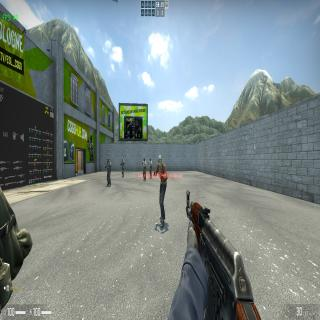CT-Body: (105, 157, 112, 187), (120, 158, 124, 178)
CT-Head: (107, 157, 109, 162), (122, 158, 123, 162)
T-Body: (154, 155, 168, 228), (142, 158, 147, 181), (148, 158, 152, 179)
T-Head: (158, 155, 162, 167), (150, 158, 151, 162), (144, 158, 145, 162)
